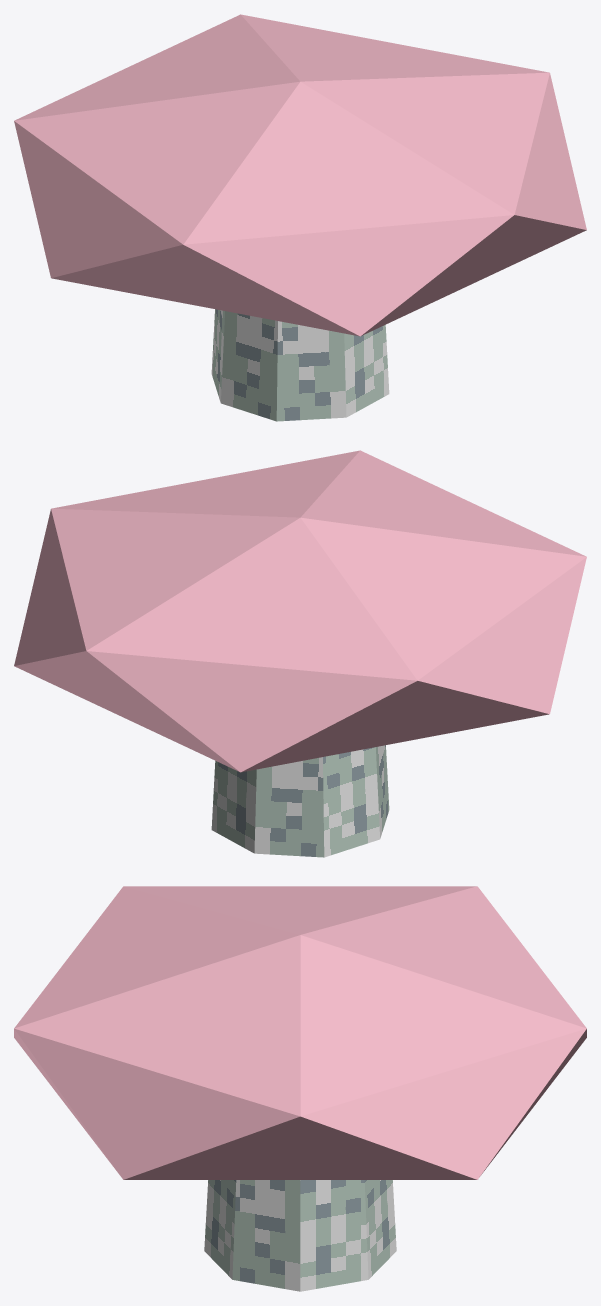
Rendered from a04_cogumelo_trampolim.glb.
3 views of the same model, one above another, from view 1: azimuth 30°, elevation 25°; view 2: azimuth 150°, elevation 25°; view 3: azimuth 270°, elevation 25° (orthographic). The views are drawn at different scales.
Visible parts, largest first — view 1: a04_cogumelo_trampolim; view 2: a04_cogumelo_trampolim; view 3: a04_cogumelo_trampolim.
Boxes of the visible parts, box(x1,y1,x2,y2) form: a04_cogumelo_trampolim: box(14, 14, 586, 421); a04_cogumelo_trampolim: box(14, 450, 586, 857); a04_cogumelo_trampolim: box(14, 886, 586, 1291).
Bounding box in the file's own units: 2.5 × 1.45 × 2.38.
2 materials, 1 textured.
